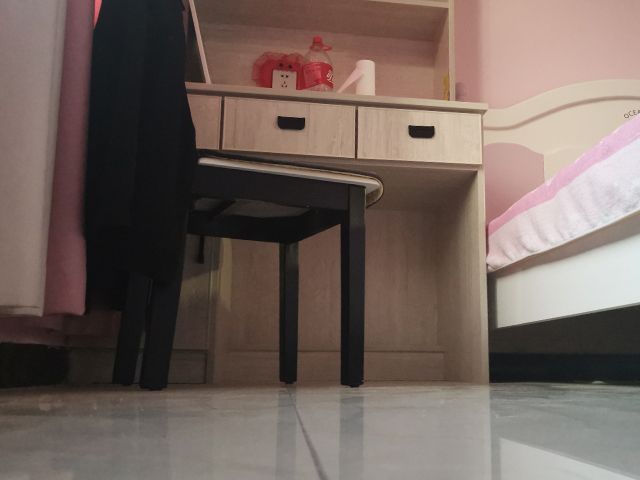bed: (480, 76, 640, 386)
curtain: (1, 1, 99, 319)
stool: (110, 1, 385, 393)
table: (189, 85, 482, 387)
